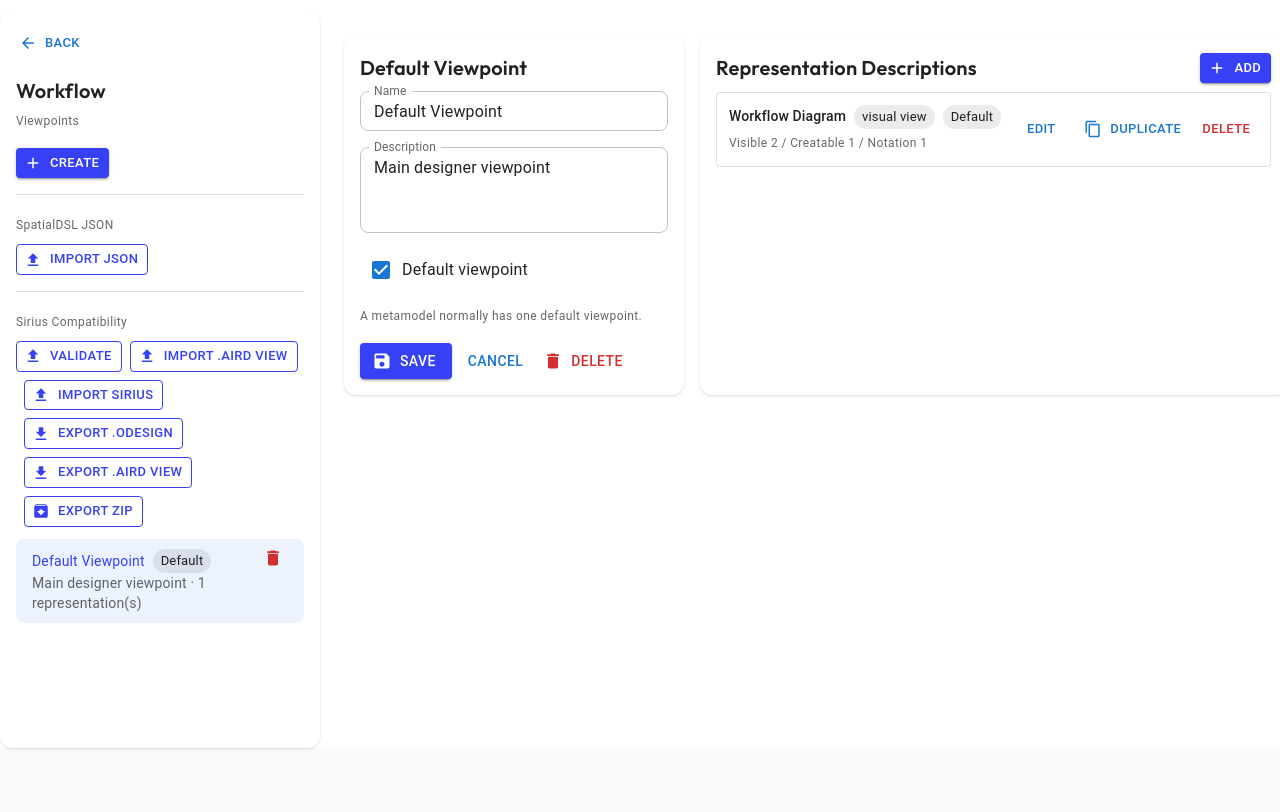
Test: ViewpointManager › shows an inconsistent elevation-policy error and blocks representation save
The image size is (1280, 812).
Click the button "Edit": (1041, 130) [1009, 114, 1073, 145]
(page scrolled)
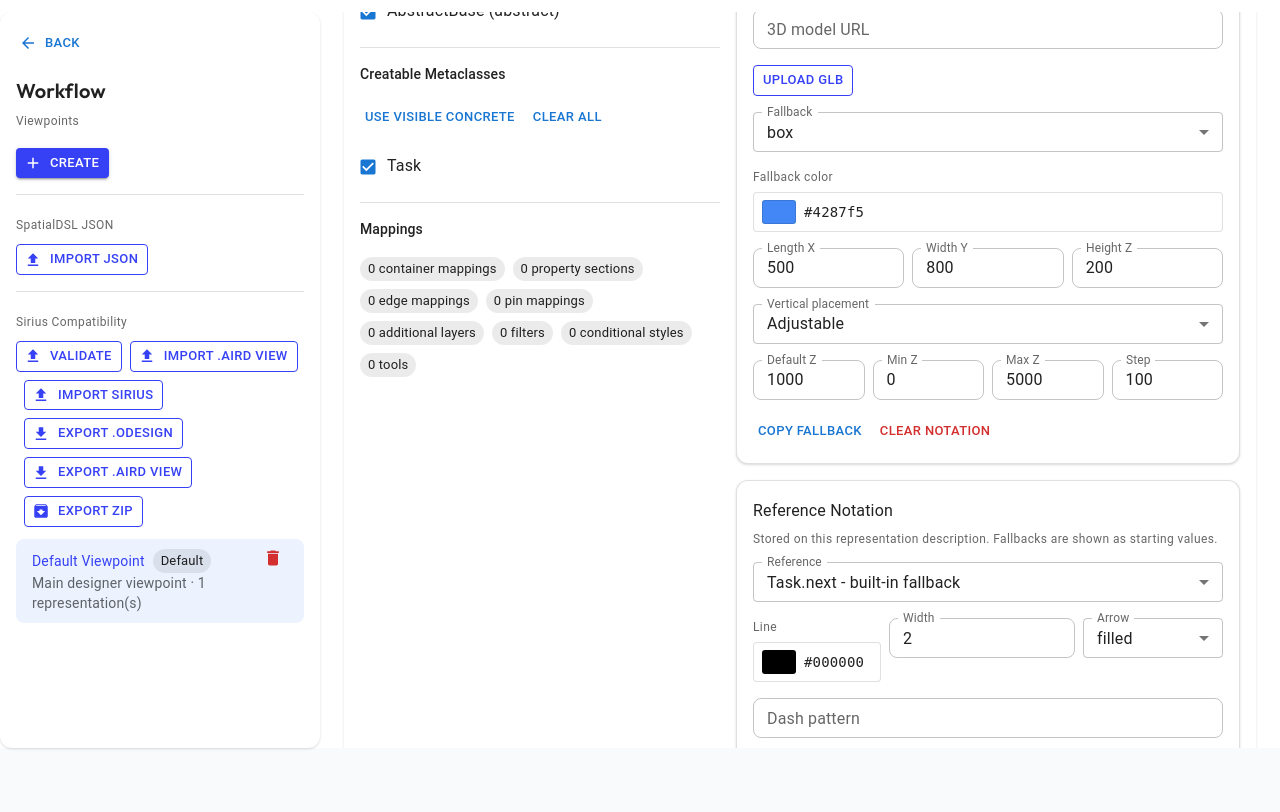
Replace the text in the number field labelled "Step" with "0": (1167, 380) [1112, 360, 1223, 400]
(page scrolled)
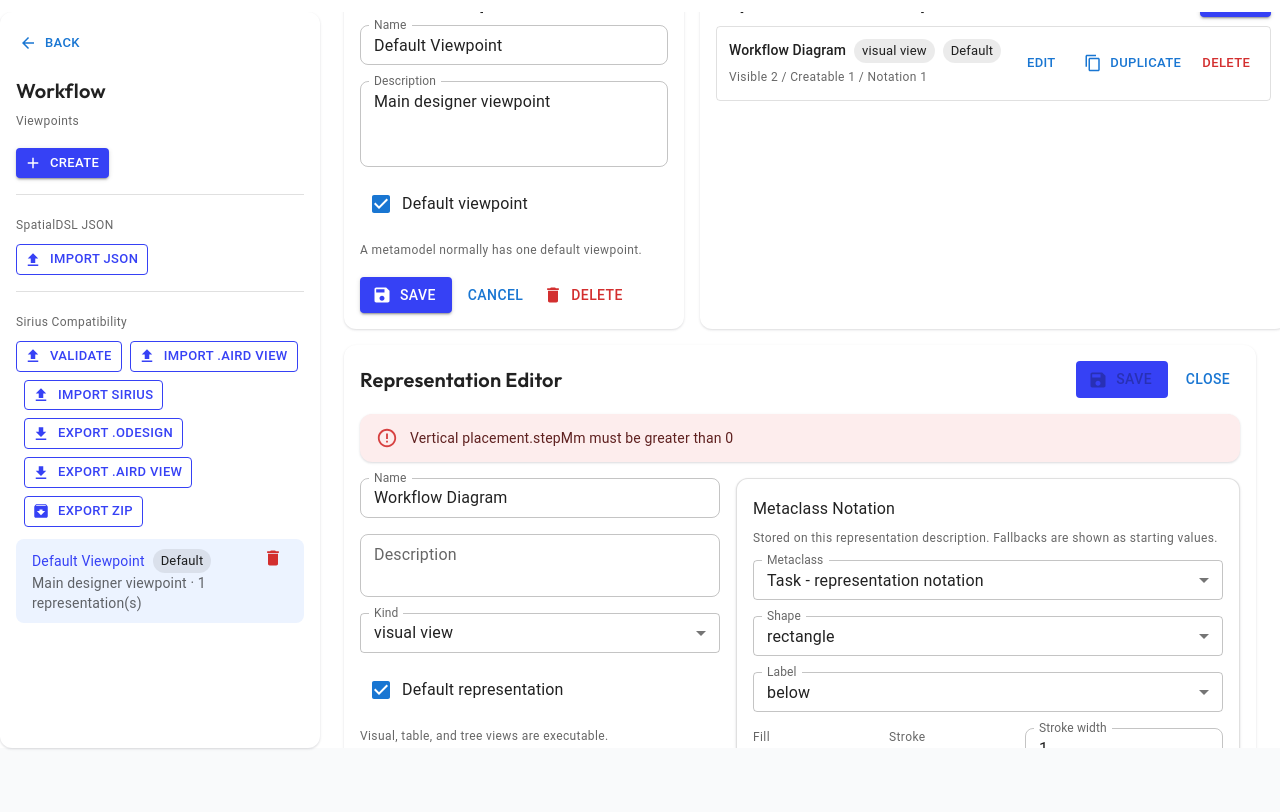
Expected: the text "Vertical placement.stepMm must be greater than 0" is shown, [410, 430, 733, 446]
Expected: the button with test id "save-representation" is disabled, [1076, 361, 1168, 398]
